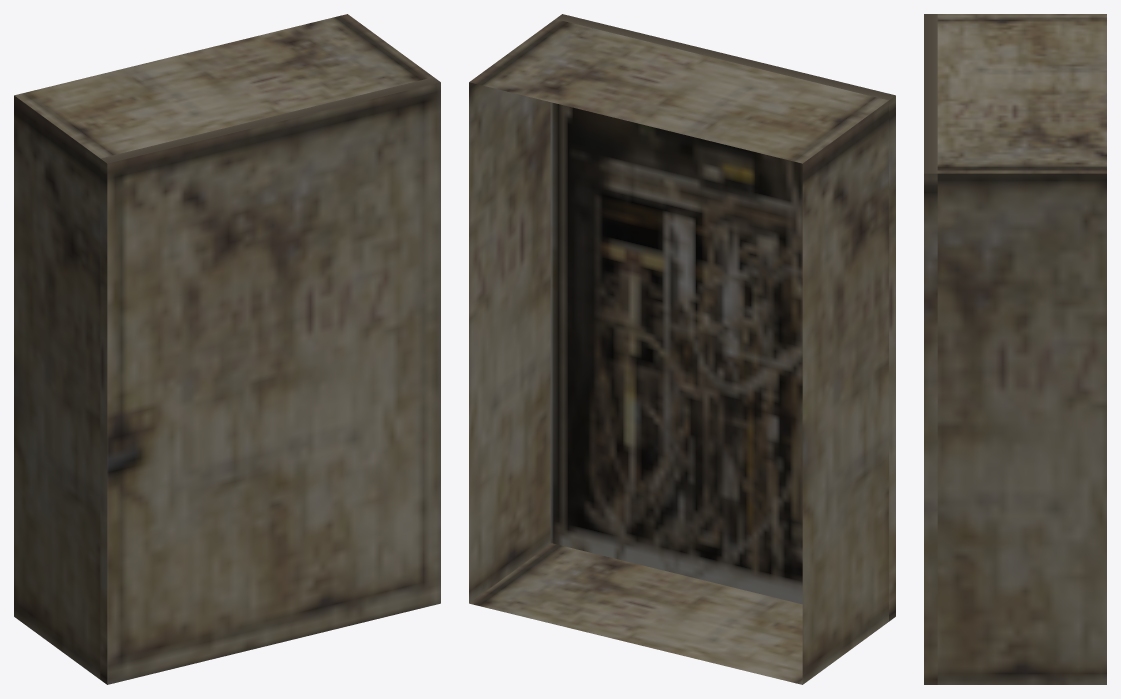
File: fuse_closed.FBX
3 renders of one model, left to right at view 1: azimuth 30°, elevation 25°; view 2: azimuth 150°, elevation 25°; view 3: azimuth 270°, elevation 25°, orthographic.
Parts seen in each view (by area): view 1: fuse_box_door, fuse_closed; view 2: fuse_closed, fuse_box_door; view 3: fuse_closed, fuse_box_door.
Part boxes in pixels (box(x1,y1,x2,y2)): fuse_box_door: box(100, 77, 440, 684); fuse_closed: box(14, 14, 433, 679); fuse_closed: box(469, 19, 888, 684); fuse_box_door: box(556, 14, 895, 621); fuse_closed: box(937, 14, 1106, 684); fuse_box_door: box(924, 14, 937, 684).
Bounding box in the file's own units: 18.95 × 28.3 × 9.18.
